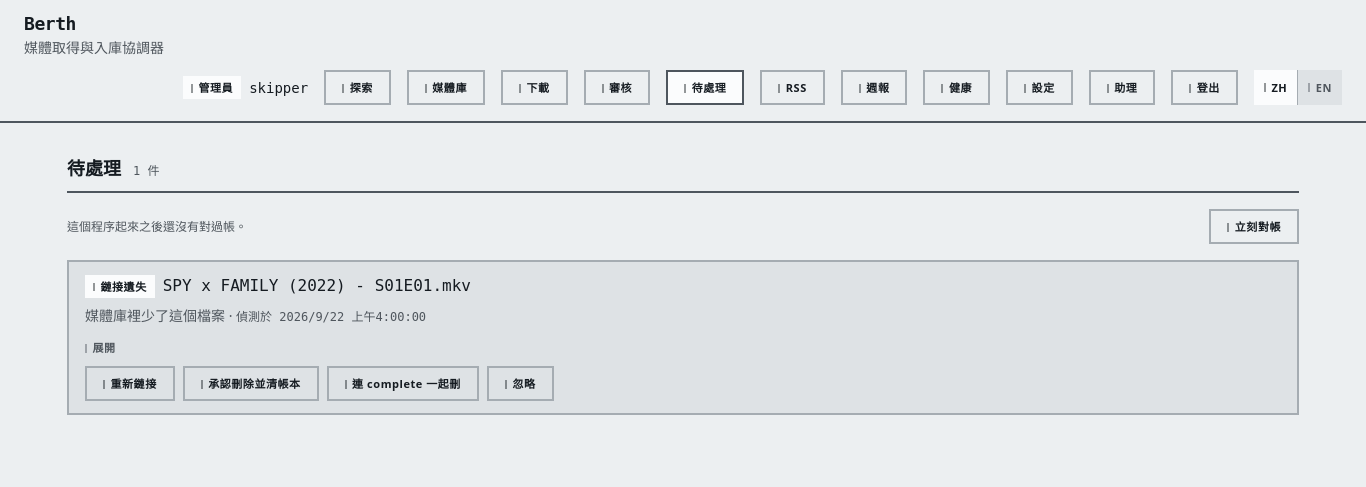
it: 待處理頁 › 修不好的時候那一列留著，並說出為什麼
The width and height of the screenshot is (1366, 487).
Click the button "重新鏈接". click: x=130, y=384
box: [85, 366, 175, 401]
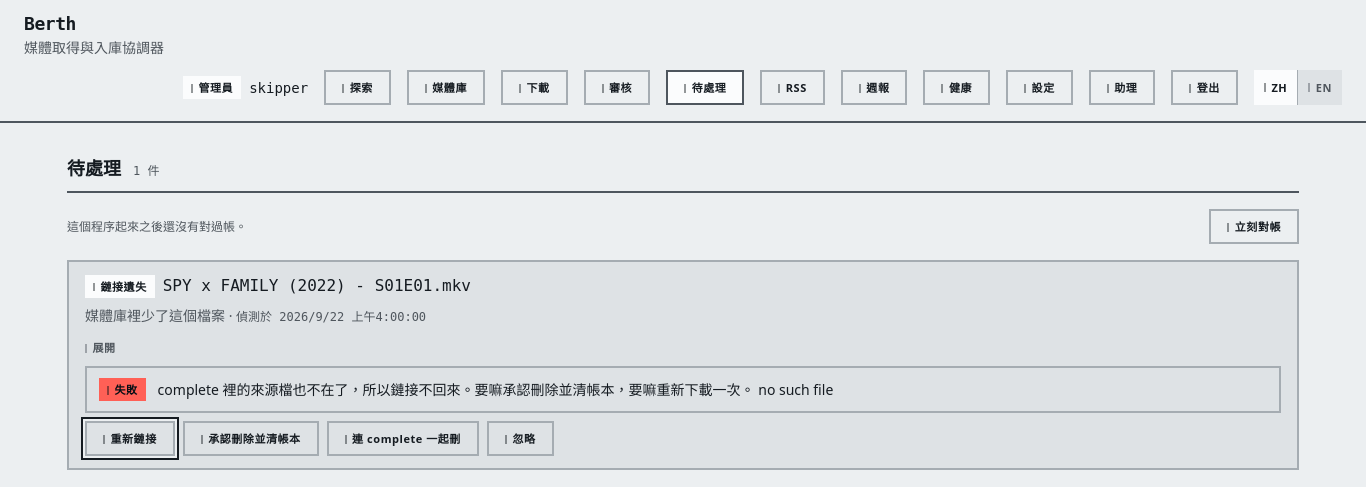
Expected: the element that starts with "鏈接遺失" is shown, [67, 260, 1299, 470]
Expected: the message shows "complete 裡的來源檔也不在了", [158, 380, 833, 398]
